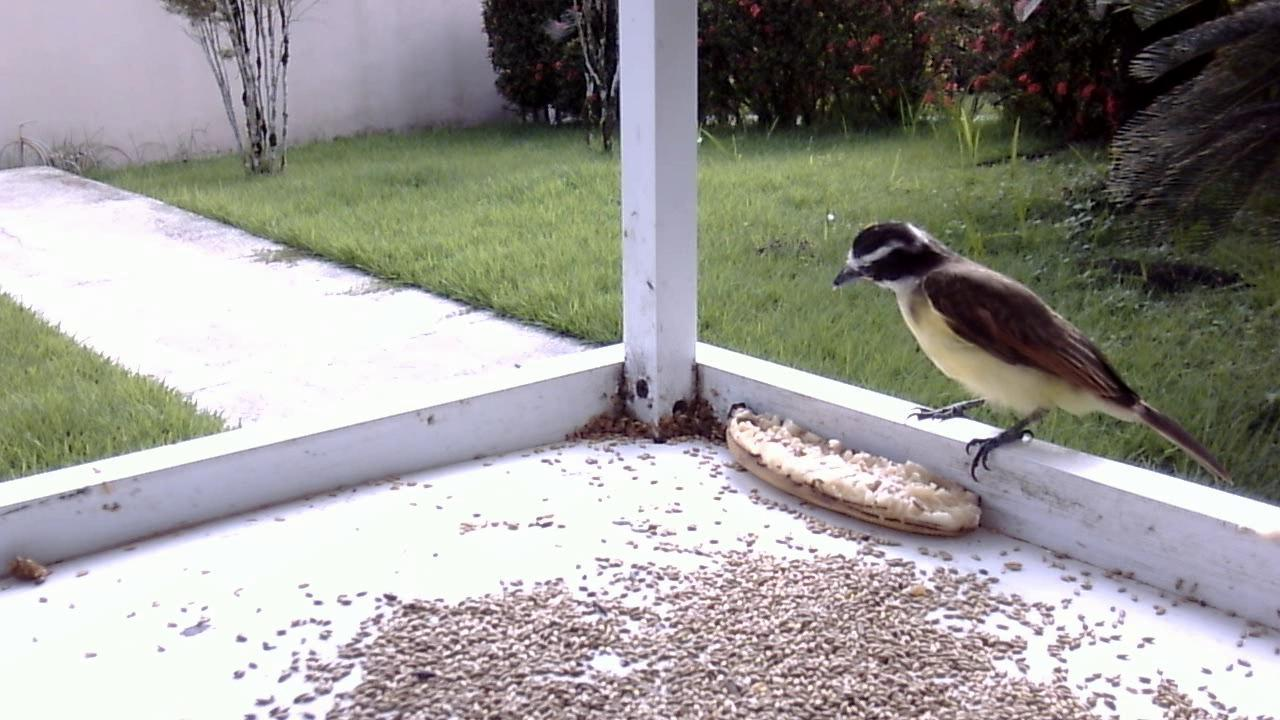bem_te_vi: (820, 202, 1254, 507)
